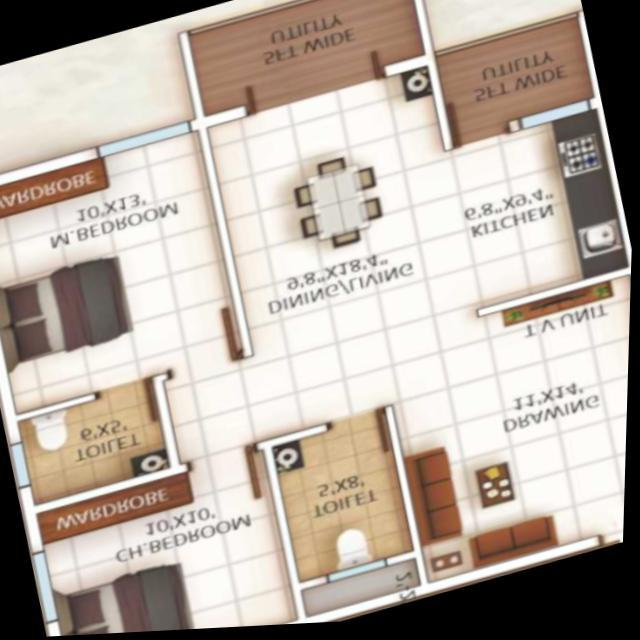Bedroom: (24, 445, 310, 637)
Bedroom with Toilet: (0, 125, 255, 517)
Dining: (284, 139, 394, 265)
Kitchen: (445, 104, 633, 319)
Living: (372, 270, 633, 602)
Toilet: (265, 408, 426, 593), (9, 375, 186, 510)
Utility: (178, 0, 435, 117), (428, 12, 604, 157)
